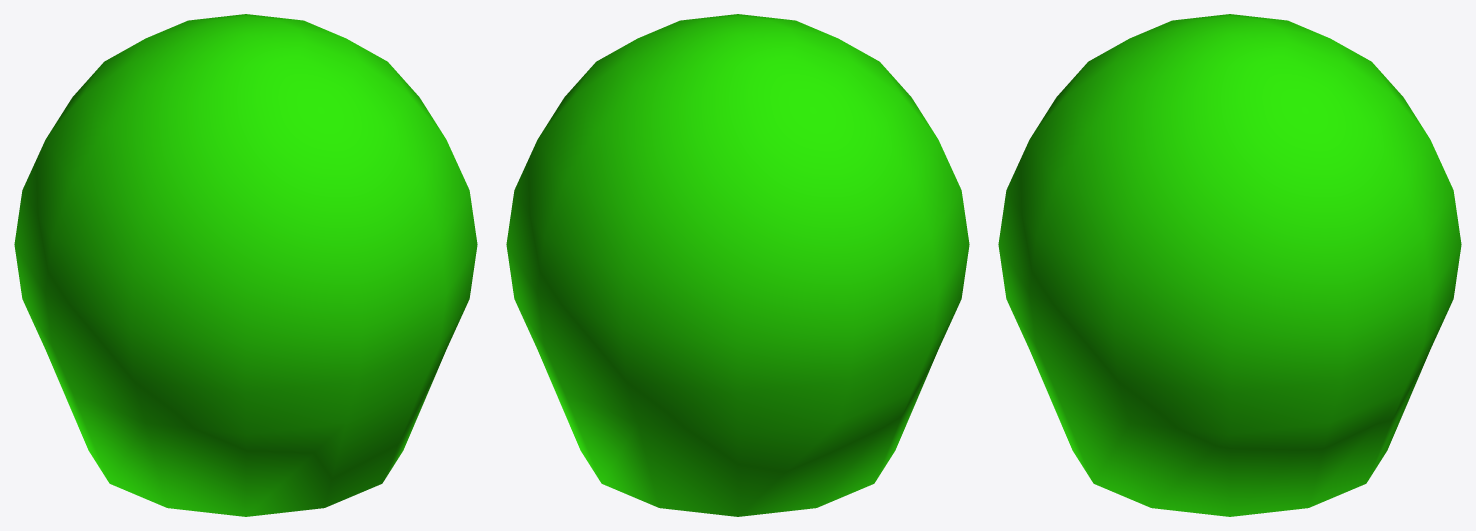
Rendered from Lamp_05_Bulb_AutoIllum.fbx.
3 renders of one model, left to right at view 1: azimuth 30°, elevation 25°; view 2: azimuth 150°, elevation 25°; view 3: azimuth 270°, elevation 25°, orthographic.
Parts seen in each view (by area): view 1: Lamp_05_Bulb_AutoIllum; view 2: Lamp_05_Bulb_AutoIllum; view 3: Lamp_05_Bulb_AutoIllum.
Boxes of the visible parts, box(x1,y1,x2,y2) form: Lamp_05_Bulb_AutoIllum: box(14, 14, 477, 516); Lamp_05_Bulb_AutoIllum: box(506, 14, 969, 516); Lamp_05_Bulb_AutoIllum: box(998, 14, 1461, 516).
Size of the model in its own units: 5.38 by 5.32 by 5.38.
